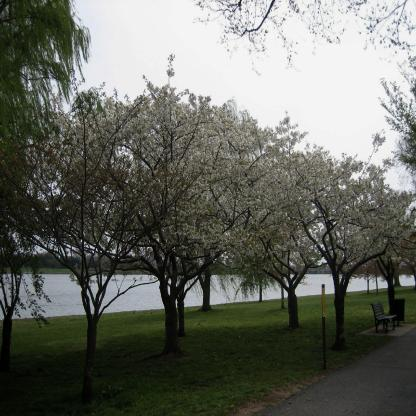Someiyoshino: (34, 38, 416, 336)
